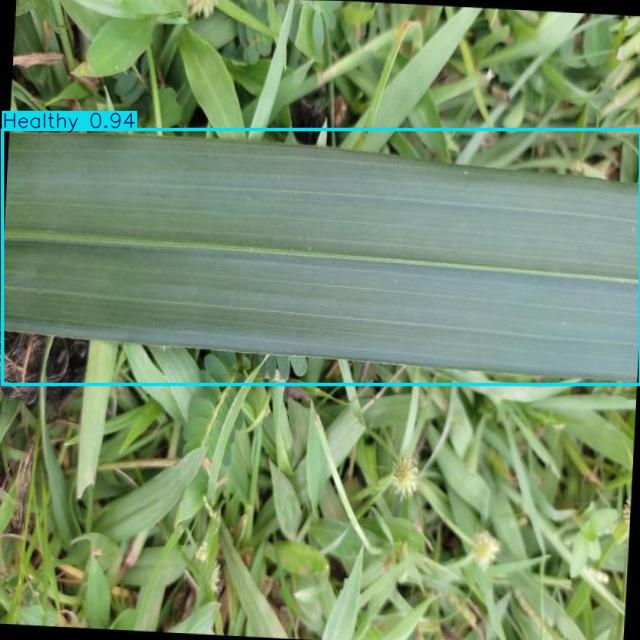Healthy: (2, 129, 640, 384)
